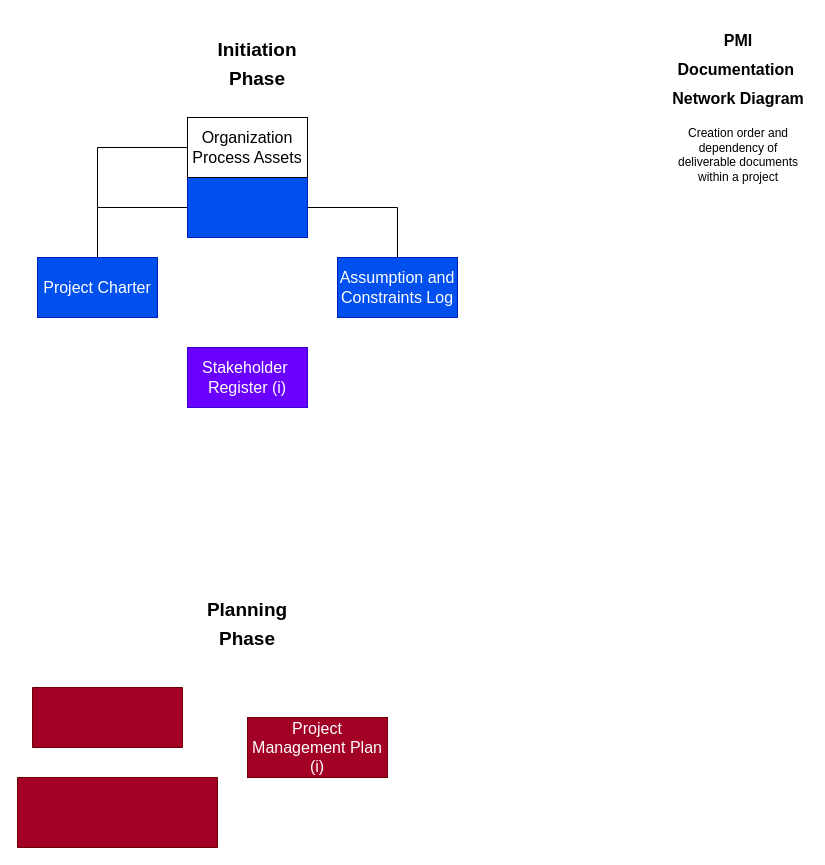
The diagram is 825 pixels wide and 865 high, and some of its shapes have lost their labels. The shapes that lost their labels are listed below. From the top down, each one's centre as x and y in pixels, then its label:
At point 247,207: "Business Case".
At point 107,717: "Subsidiary Management Plan (i)".
At point 117,812: "Performance Measurement Baseline (i)".
